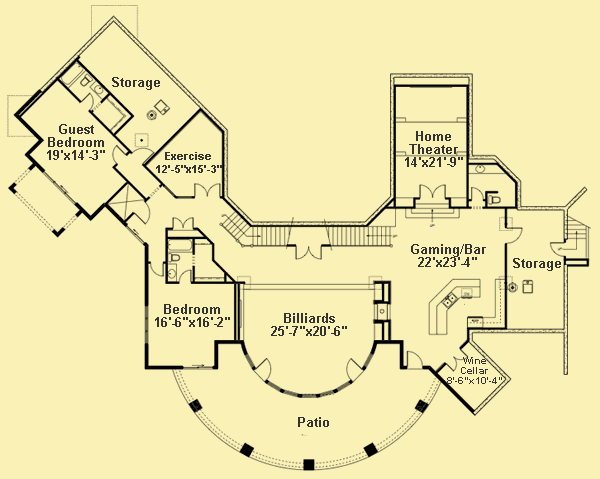door: (294, 242, 325, 263), (191, 181, 223, 201), (417, 180, 449, 199), (444, 348, 469, 372), (345, 357, 365, 383), (500, 223, 523, 245), (133, 201, 153, 225), (169, 214, 197, 231), (255, 356, 272, 382), (108, 143, 129, 163), (403, 347, 423, 368), (132, 147, 156, 163), (79, 90, 94, 112), (148, 259, 165, 278), (469, 185, 486, 200), (178, 268, 193, 285)
large sink: (488, 190, 505, 207), (164, 251, 186, 264), (79, 71, 93, 89)
small sink: (469, 160, 508, 176), (165, 262, 179, 283)
stairs: (220, 206, 394, 248), (403, 200, 463, 230), (560, 211, 593, 259)
tub: (60, 63, 83, 86), (167, 238, 193, 255)
windows: (42, 167, 83, 211), (141, 302, 153, 346), (177, 361, 215, 374)
